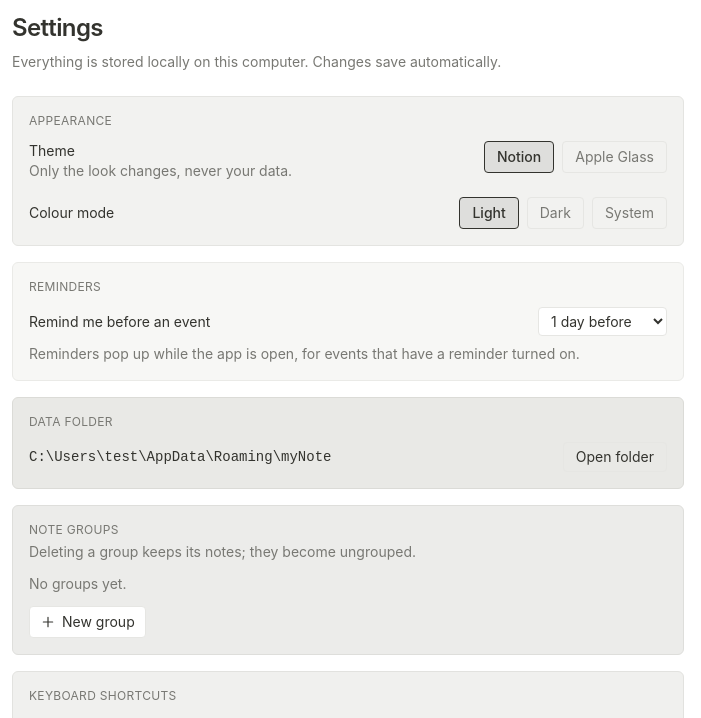
SettingsPage › shows an error when the folder cannot be opened
The image size is (701, 718).
Click the button "Open folder" at (615, 457), box [563,442,667,472]
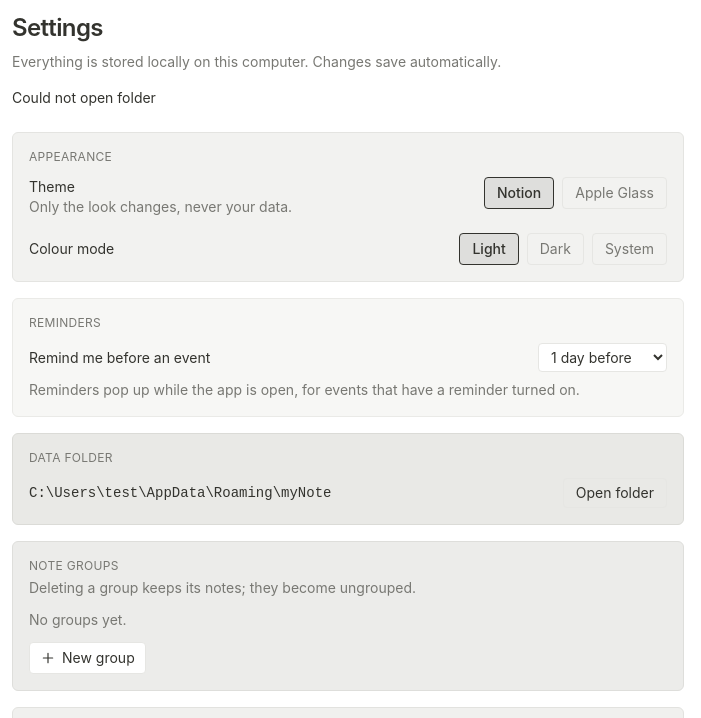
Check: the message reads "Could not open folder", box [12,89,156,106]
